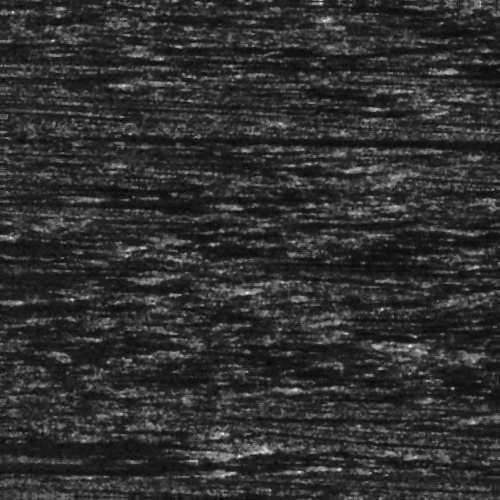object: (0, 297, 80, 308), (187, 283, 260, 294), (117, 78, 200, 85), (414, 62, 467, 67)
shadow: (6, 78, 159, 85), (227, 62, 440, 67), (157, 283, 223, 294), (468, 41, 500, 48)
